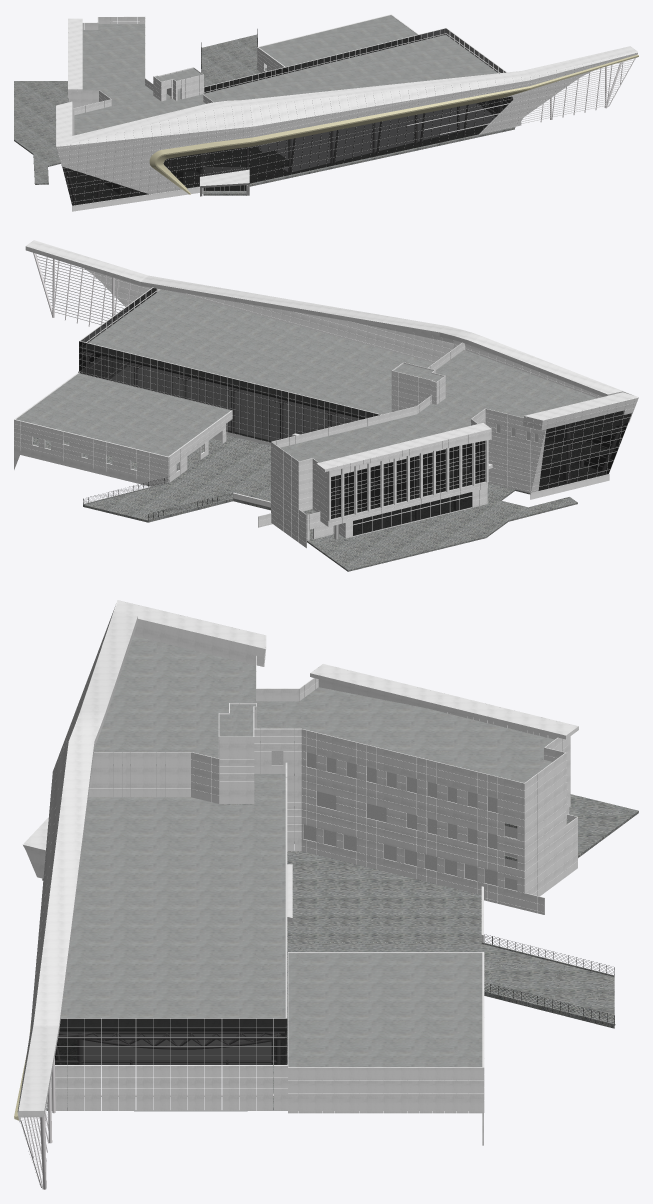
Rendered from station-1f.glb.
3 renders of one model, top to bottom at view 1: azimuth 30°, elevation 25°; view 2: azimuth 150°, elevation 25°; view 3: azimuth 270°, elevation 25°, orthographic. The views are drawn at different scales.
Parts seen in each view (by area): view 1: Node; view 2: Node; view 3: Node.
Boxes of the visible parts, x1,y1,x2,y2 form: Node: [14, 14, 638, 211]; Node: [14, 240, 638, 571]; Node: [14, 600, 638, 1189].
Size of the model in its own units: 131 by 23.67 by 72.69.
Materials: 8 (8 with a texture image).
